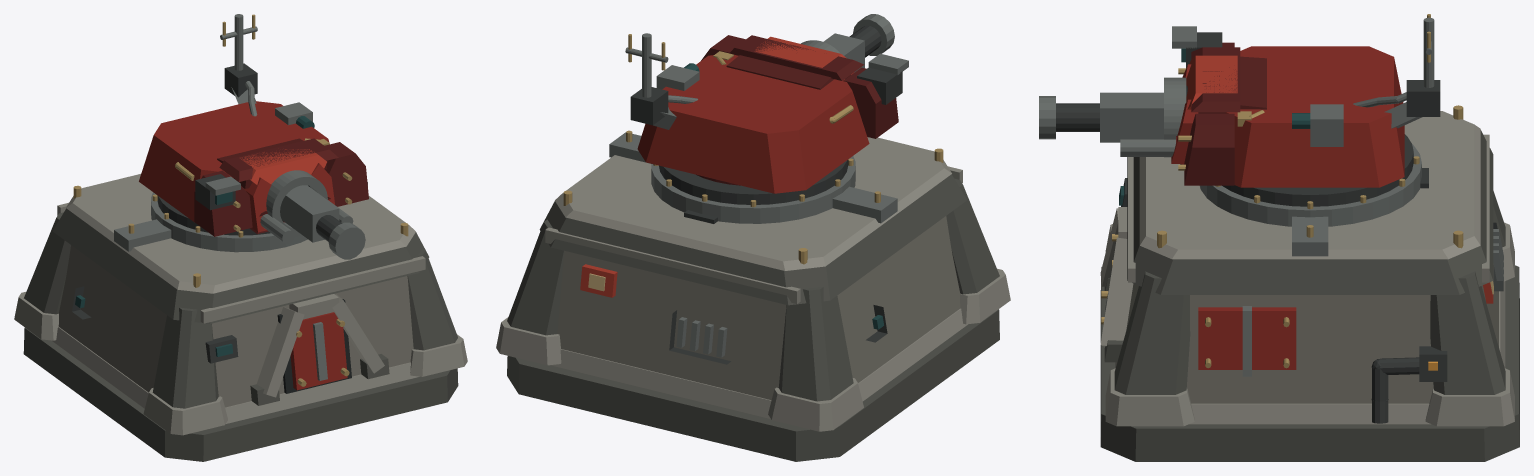
The model's file is martian_heavy_weapon_bunker_pass1_v05.glb.
The picture shows the model from 3 angles, left to right: view 1: azimuth 30°, elevation 25°; view 2: azimuth 150°, elevation 25°; view 3: azimuth 270°, elevation 25°; orthographic projection. The views are drawn at different scales.
Visible parts, largest first — view 1: 03_monolithic_bunker_mass, 01_foundation_granular_ferrocrete, 05_top_concrete_skin, 16_martian_red_turret_armor, 04_upper_blast_cap, 06_corner_armor_buttress_WS, 02_lower_blast_raft, 53_south_slab_anchor_strip, 06_corner_armor_buttress_ES, 09_steel_service_hatch, 06_corner_armor_buttress_WN, 13_ring_lower_bearing_seat (+26 smaller); view 2: 03_monolithic_bunker_mass, 16_martian_red_turret_armor, 05_top_concrete_skin, 01_foundation_granular_ferrocrete, 04_upper_blast_cap, 06_corner_armor_buttress_WN, 02_lower_blast_raft, 13_ring_lower_bearing_seat, 06_corner_armor_buttress_EN, 06_corner_armor_buttress_WS, 14_ring_open_bearing_race, 07_corner_buttress_foot_WN (+18 smaller); view 3: 05_top_concrete_skin, 16_martian_red_turret_armor, 03_monolithic_bunker_mass, 01_foundation_granular_ferrocrete, 04_upper_blast_cap, 06_corner_armor_buttress_ES, 06_corner_armor_buttress_EN, 55_east_wall_controller_armor, 02_lower_blast_raft, 13_ring_lower_bearing_seat, 18_turret_front_cheek_E, 21_gun_tube_outer_shroud (+26 smaller).
Part boxes in pixels (left/top/right/bottom): 03_monolithic_bunker_mass: left=58, top=245, right=413, bottom=407; 01_foundation_granular_ferrocrete: left=23, top=327, right=458, bottom=461; 05_top_concrete_skin: left=66, top=174, right=415, bottom=293; 16_martian_red_turret_armor: left=139, top=101, right=329, bottom=222; 04_upper_blast_cap: left=52, top=208, right=429, bottom=323; 06_corner_armor_buttress_WS: left=152, top=307, right=218, bottom=408; 02_lower_blast_raft: left=52, top=327, right=419, bottom=423; 53_south_slab_anchor_strip: left=200, top=256, right=425, bottom=323; 06_corner_armor_buttress_ES: left=407, top=248, right=457, bottom=350; 09_steel_service_hatch: left=290, top=312, right=347, bottom=390; 06_corner_armor_buttress_WN: left=24, top=212, right=70, bottom=314; 13_ring_lower_bearing_seat: left=151, top=192, right=307, bottom=252; 03_monolithic_bunker_mass: left=557, top=216, right=960, bottom=400; 16_martian_red_turret_armor: left=637, top=54, right=869, bottom=193; 05_top_concrete_skin: left=555, top=135, right=951, bottom=270; 01_foundation_granular_ferrocrete: left=507, top=309, right=999, bottom=461; 04_upper_blast_cap: left=539, top=174, right=966, bottom=305; 06_corner_armor_buttress_WN: left=778, top=287, right=853, bottom=401; 02_lower_blast_raft: left=550, top=308, right=967, bottom=418; 13_ring_lower_bearing_seat: left=651, top=156, right=855, bottom=223; 06_corner_armor_buttress_EN: left=507, top=219, right=564, bottom=335; 06_corner_armor_buttress_WS: left=946, top=178, right=999, bottom=294; 14_ring_open_bearing_race: left=659, top=159, right=848, bottom=204; 07_corner_buttress_foot_WN: left=768, top=378, right=863, bottom=431; 05_top_concrete_skin: left=1139, top=111, right=1480, bottom=259; 16_martian_red_turret_armor: left=1225, top=46, right=1404, bottom=187; 03_monolithic_bunker_mass: left=1126, top=263, right=1498, bottom=403; 01_foundation_granular_ferrocrete: left=1100, top=265, right=1519, bottom=461; 04_upper_blast_cap: left=1127, top=130, right=1493, bottom=294; 06_corner_armor_buttress_ES: left=1114, top=271, right=1190, bottom=394; 06_corner_armor_buttress_EN: left=1430, top=271, right=1505, bottom=394; 55_east_wall_controller_armor: left=1198, top=307, right=1296, bottom=369; 02_lower_blast_raft: left=1115, top=281, right=1505, bottom=424; 13_ring_lower_bearing_seat: left=1200, top=144, right=1421, bottom=226; 18_turret_front_cheek_E: left=1184, top=113, right=1234, bottom=185; 21_gun_tube_outer_shroud: left=1100, top=92, right=1163, bottom=142.
Size of the model in its own units: 3.04 by 3.01 by 3.44.
